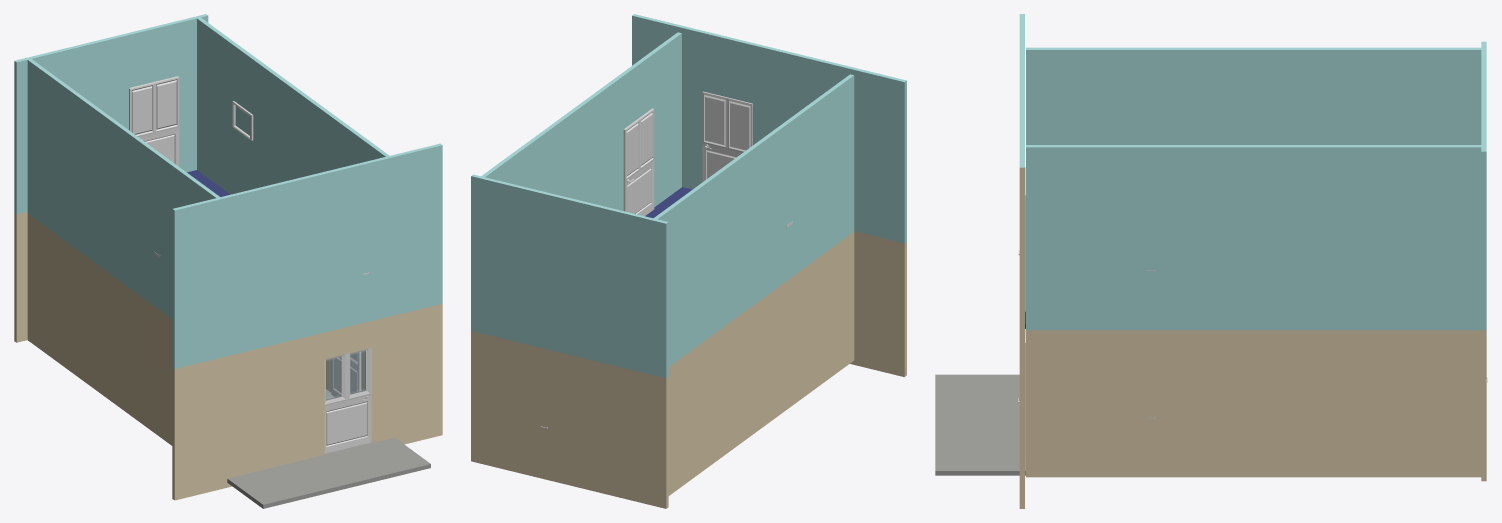
Rendered from BUBBLE GUY GOING DOWN STAIRS.fbx.
3 renders of one model, left to right at view 1: azimuth 30°, elevation 25°; view 2: azimuth 150°, elevation 25°; view 3: azimuth 270°, elevation 25°, orthographic. The views are drawn at different scales.
Parts seen in each view (by area): view 1: Walls, Doors, Floor; view 2: Walls, Doors; view 3: Walls, Floor.
Part boxes in pixels (x1,y1,x2,y2): Walls: (14, 14, 442, 500); Doors: (129, 76, 371, 453); Floor: (227, 389, 430, 508); Walls: (471, 14, 906, 508); Doors: (540, 91, 752, 429); Walls: (1019, 14, 1486, 508); Floor: (935, 374, 1025, 475).
Size of the model in its own units: 3199 by 3339 by 4857.
